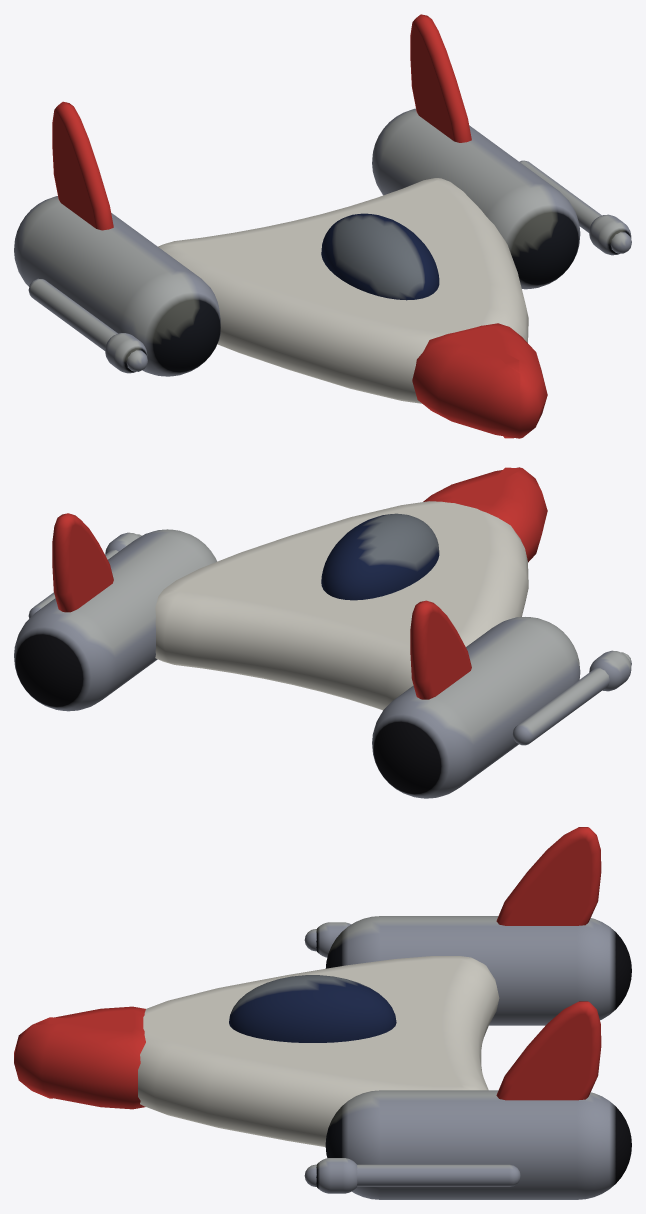
Rendered from dart-starfighter.obj.
3 renders of one model, top to bottom at view 1: azimuth 30°, elevation 25°; view 2: azimuth 150°, elevation 25°; view 3: azimuth 270°, elevation 25°, orthographic.
Visible parts, largest first — view 1: starfighter; view 2: starfighter; view 3: starfighter.
Part boxes in pixels (x1,y1,x2,y2): starfighter: (14, 14, 631, 438); starfighter: (14, 467, 631, 798); starfighter: (14, 827, 631, 1199).
Size of the model in its own units: 184 by 66 by 192.
